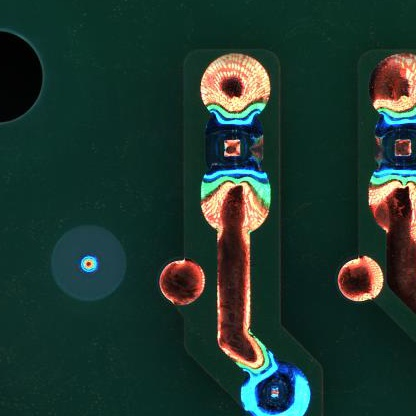spot: (242, 360, 313, 416), (204, 108, 263, 175), (375, 111, 414, 180)
